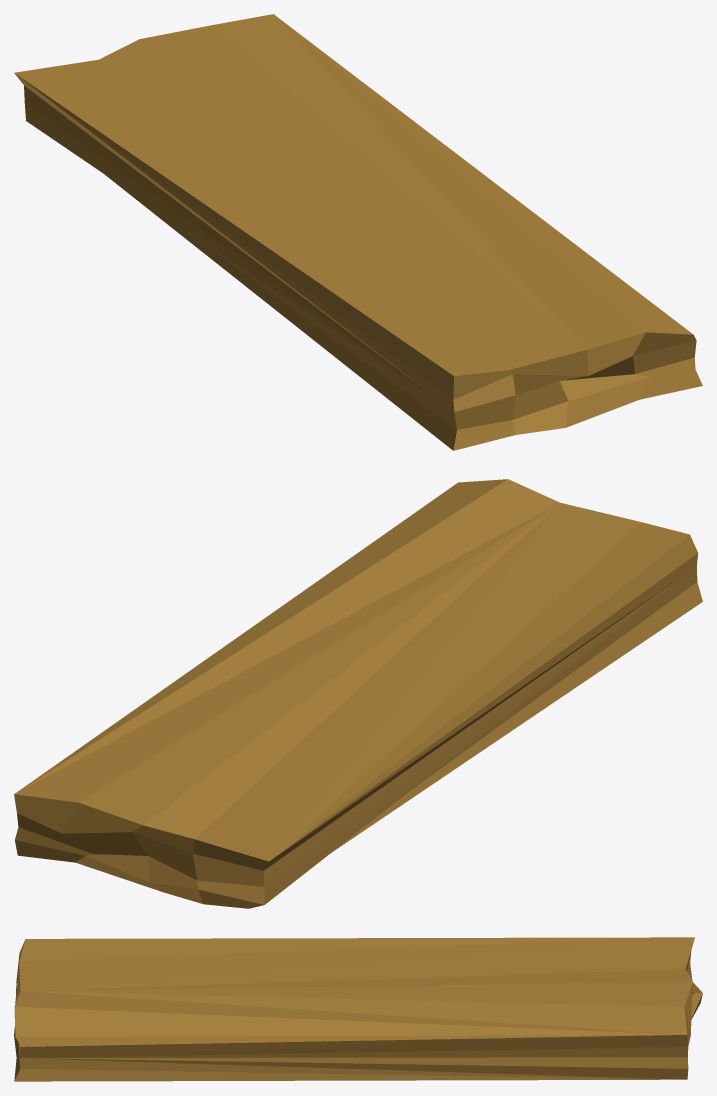
The model's file is plank.fbx.
3 views of the same model, one above another, from view 1: azimuth 30°, elevation 25°; view 2: azimuth 150°, elevation 25°; view 3: azimuth 270°, elevation 25° (orthographic). The views are drawn at different scales.
Parts seen in each view (by area): view 1: plank; view 2: plank; view 3: plank.
Boxes of the visible parts, x1,y1,x2,y2 form: plank: [14, 14, 702, 450]; plank: [14, 479, 702, 908]; plank: [14, 937, 702, 1081].
Size of the model in its own units: 90.89 by 25.84 by 270.
